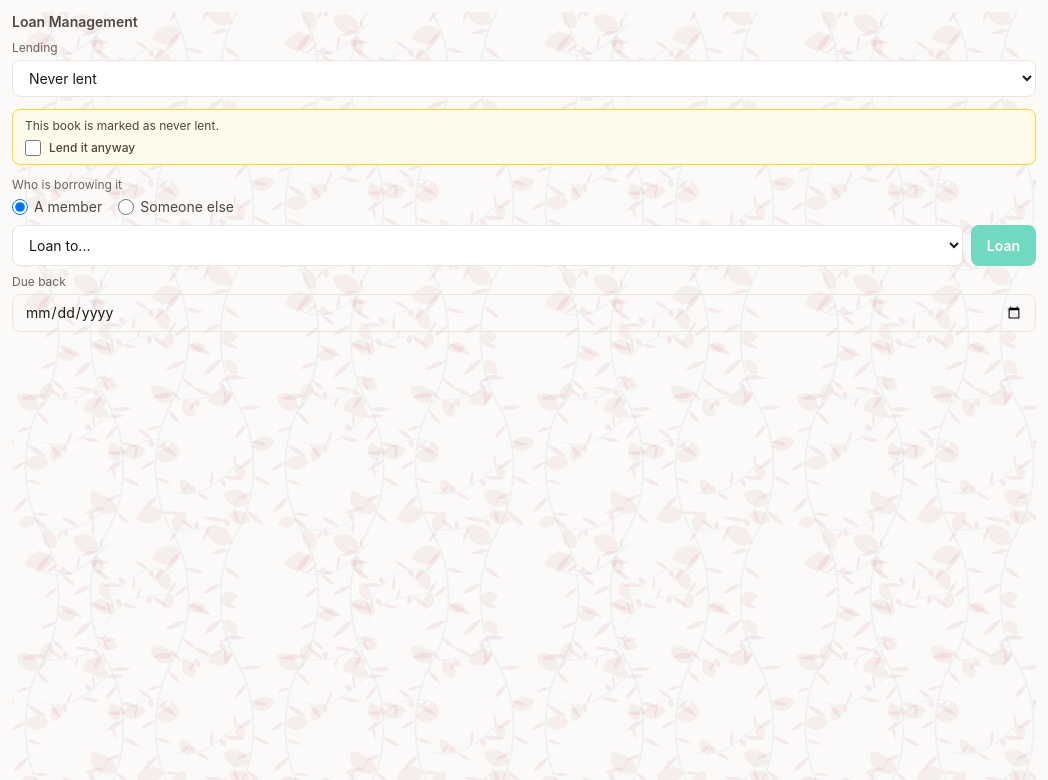
Test: lending a book marked never lent › enables it once acknowledged
Step 1. Select "ana" in the dropdown named "Loan to" → (487, 246), box 12,225 -> 963,266
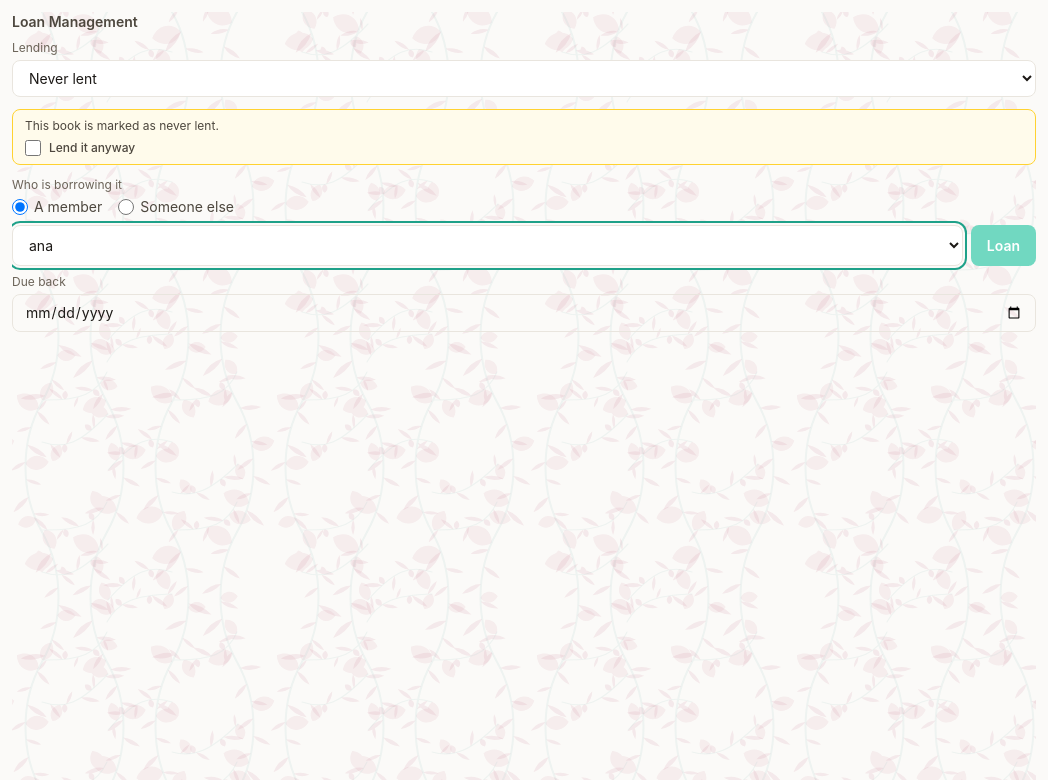
Step 2. Click the checkbox labelled "Lend it anyway" → (33, 148), box 25,140 -> 41,156
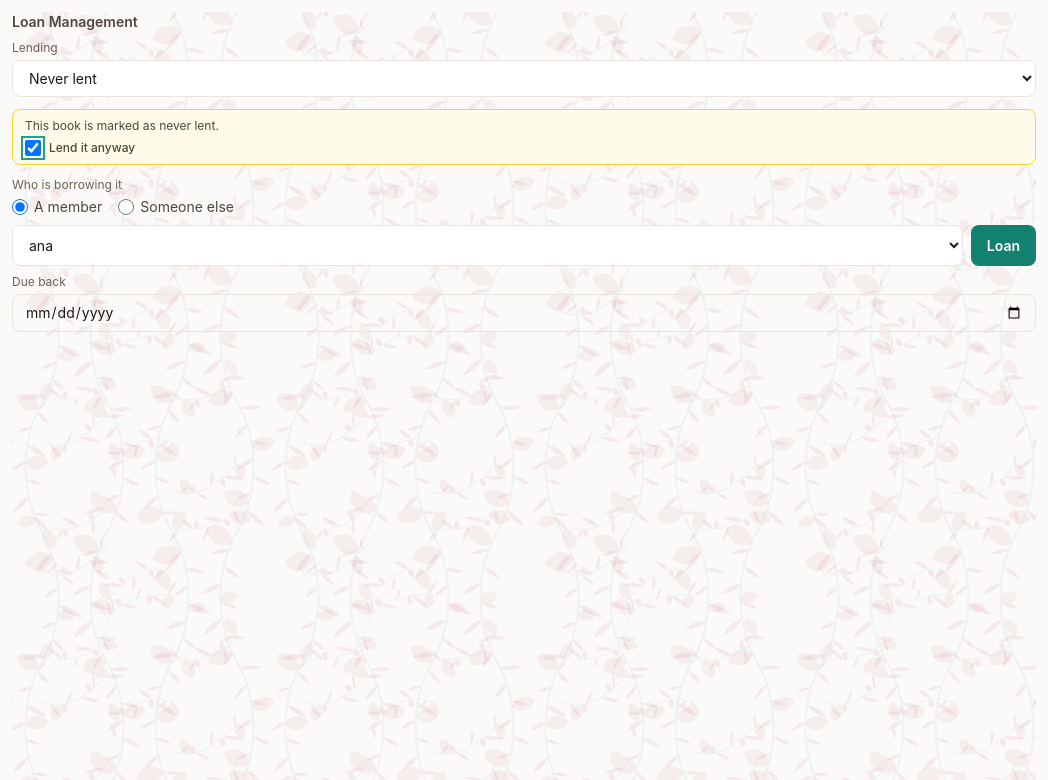
Now the button "Loan" is enabled, box 971,225 -> 1036,266
